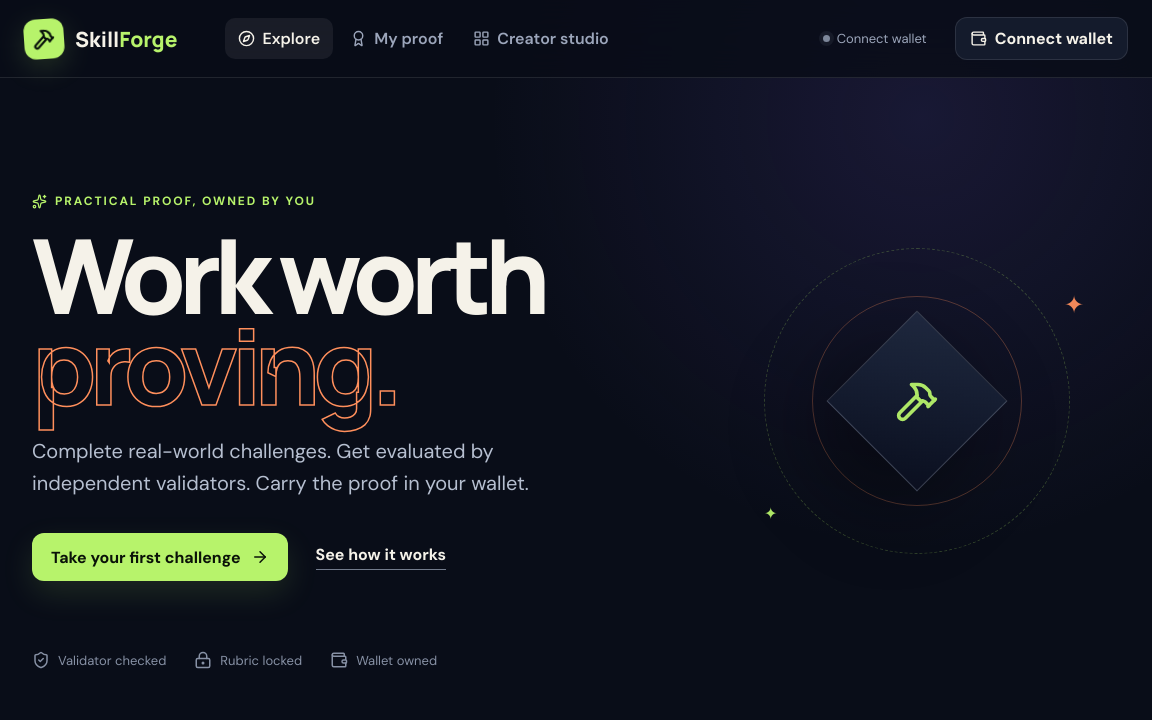
SkillForge shell › shows the wallet-owned profile empty state
Click the button "My proof": (397,38) [337,18,456,59]
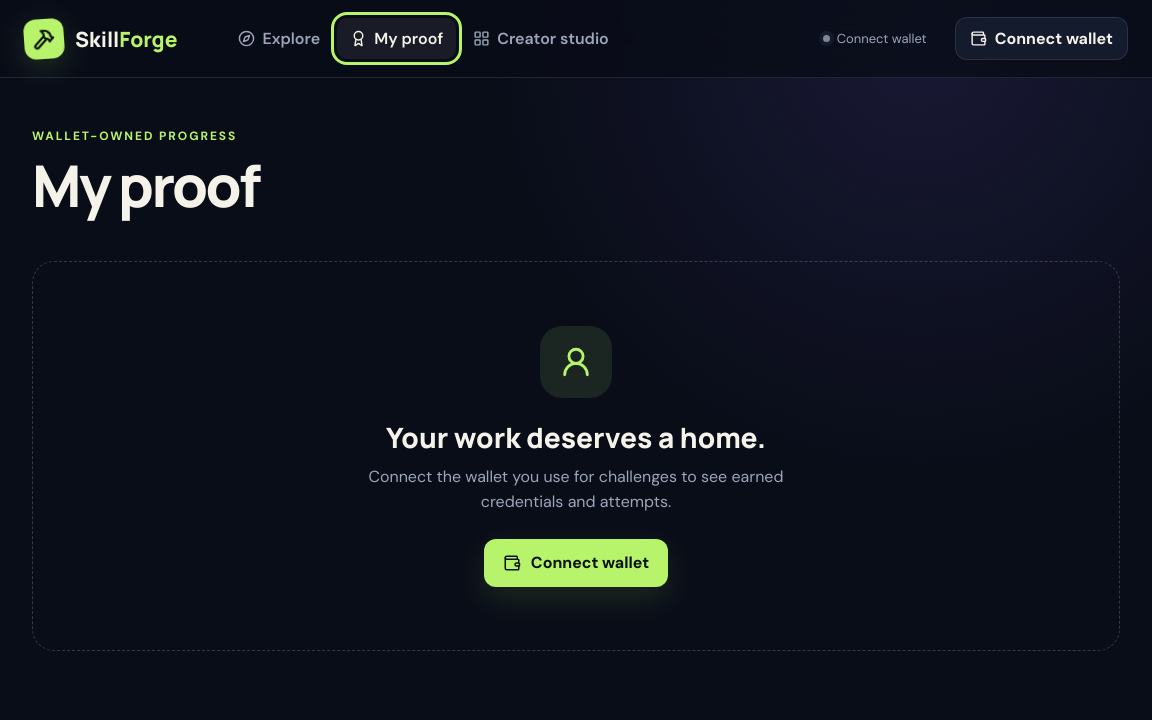
Check: the heading "My proof" is shown, box [32,146,259,224]
Check: the heading "Your work deserves a home." is shown, box [386,418,766,456]
